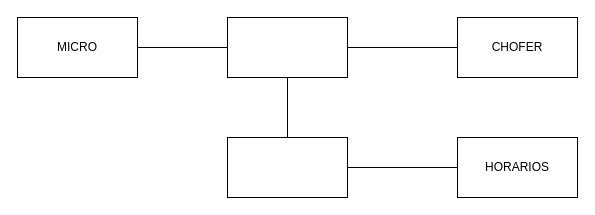
Some shapes in this 595 by 215 pixel diagram are drawn without their labels. Each missing label, with the centre of its shape:
RECORRIDOS: point (287, 167)
VIAJE: point (287, 47)
